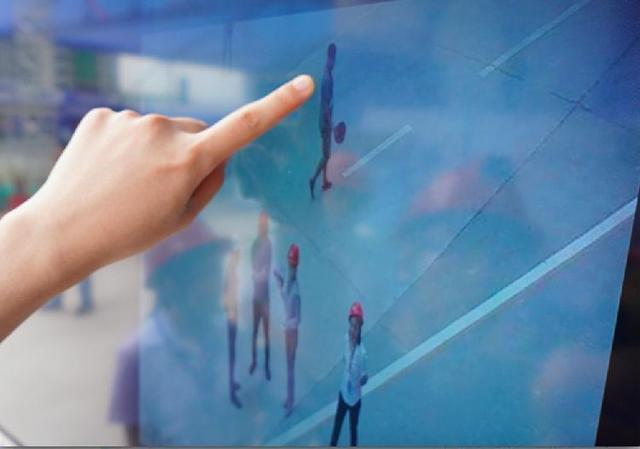helmet: (348, 303, 367, 324), (287, 245, 301, 267)
